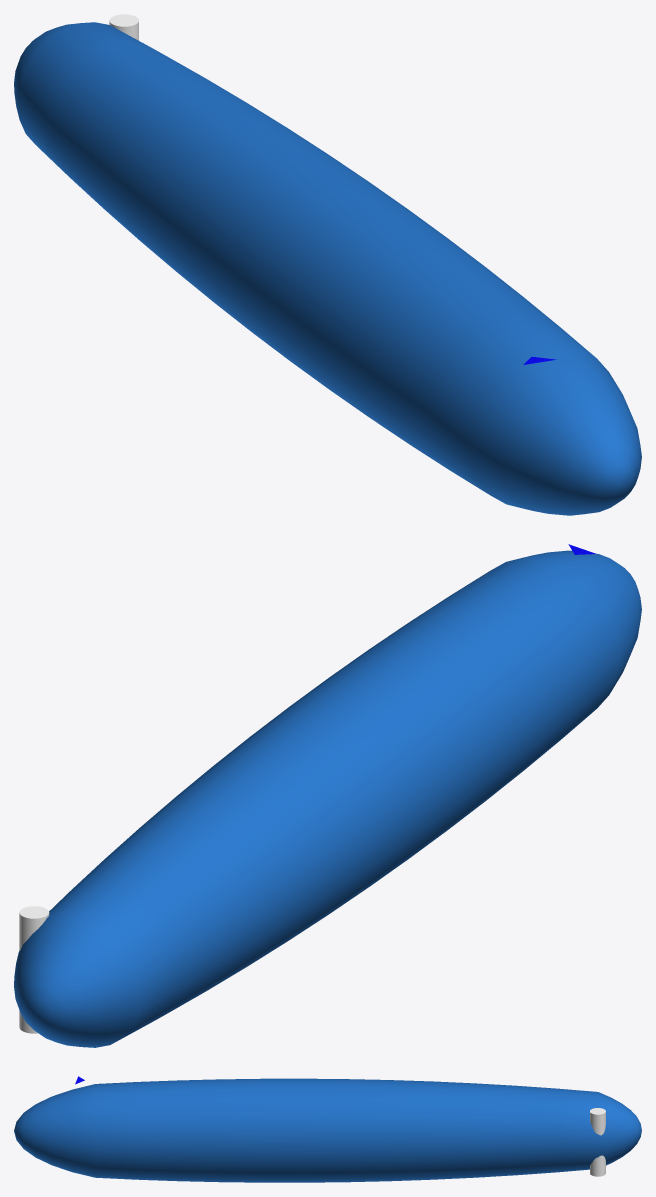
The model's file is hand_right.obj.
3 views of the same model, one above another, from view 1: azimuth 30°, elevation 25°; view 2: azimuth 150°, elevation 25°; view 3: azimuth 270°, elevation 25° (orthographic). The views are drawn at different scales.
Visible parts, largest first — view 1: Mesh1 Component_4_1 Component_25_1 Model; view 2: Mesh1 Component_4_1 Component_25_1 Model, Mesh2 Component_25_1 Model; view 3: Mesh1 Component_4_1 Component_25_1 Model, Mesh2 Component_25_1 Model.
Boxes of the visible parts, x1,y1,x2,y2 form: Mesh1 Component_4_1 Component_25_1 Model: (14,22,641,515); Mesh1 Component_4_1 Component_25_1 Model: (14,550,641,1047); Mesh2 Component_25_1 Model: (19,906,49,1033); Mesh1 Component_4_1 Component_25_1 Model: (14,1078,641,1182); Mesh2 Component_25_1 Model: (590,1108,605,1176).
Bounding box in the file's own units: 0.0324 × 0.0324 × 0.1951.
